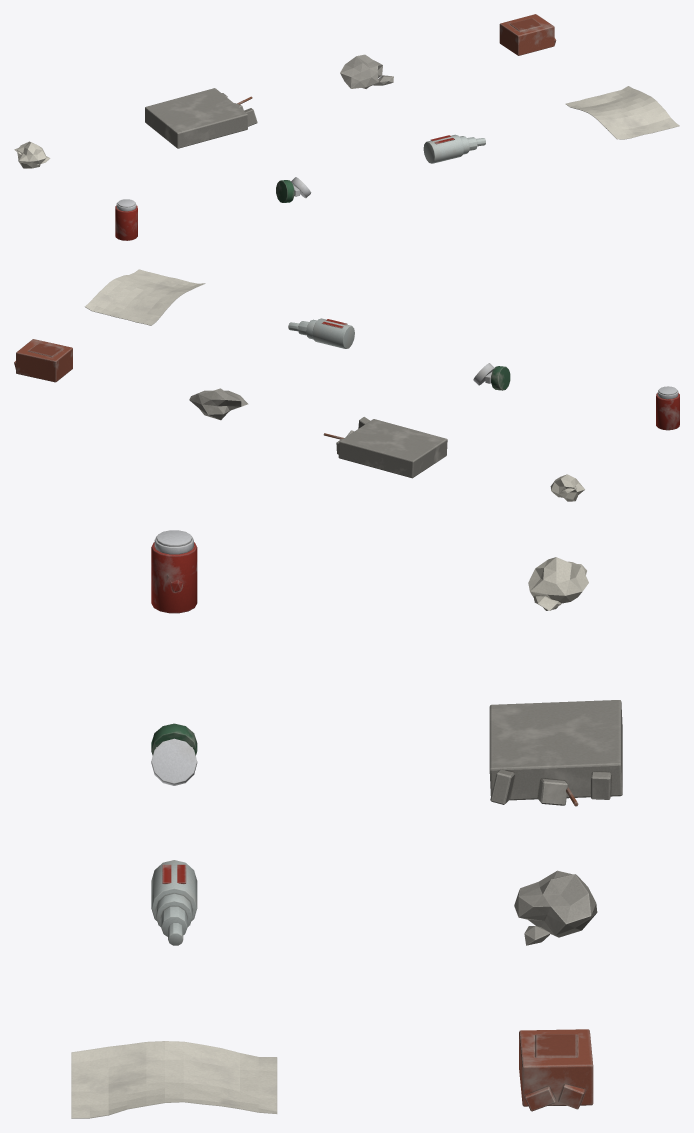
File: litter_atlas.glb
3 renders of one model, top to bottom at view 1: azimuth 30°, elevation 25°; view 2: azimuth 150°, elevation 25°; view 3: azimuth 270°, elevation 25°, orthographic. The views are drawn at different scales.
Parts seen in each view (by area): view 1: litter_atlas; view 2: litter_atlas; view 3: litter_atlas.
Part boxes in pixels (x1,y1,x2,y2): litter_atlas: [14, 14, 679, 240]; litter_atlas: [14, 269, 679, 501]; litter_atlas: [71, 530, 622, 1118].
Size of the model in its own units: 1.8 by 0.1214 by 0.7944.
1 material, 1 textured.
